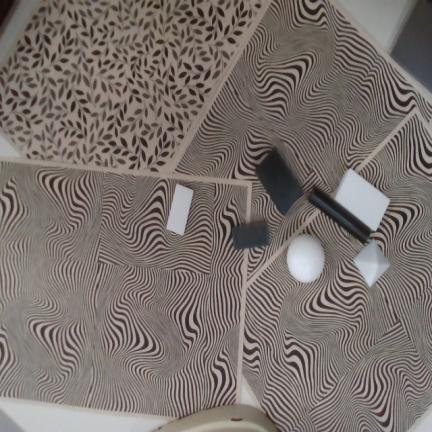Cilindro: (308, 186, 372, 244)
Esfera: (287, 234, 325, 283)
Paralelepipedo: (332, 168, 390, 232), (256, 148, 303, 217), (166, 182, 194, 236), (232, 223, 269, 249)
Piramide: (354, 238, 389, 287)
